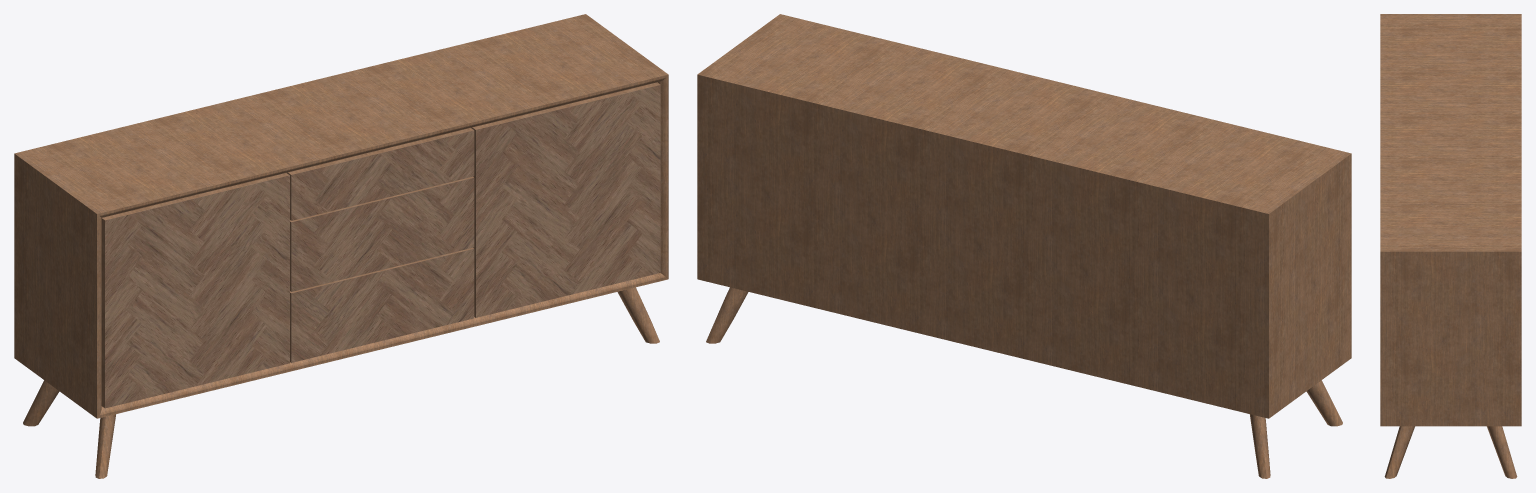
Rendered from Meuble_ID_1.glb.
The picture shows the model from 3 angles, left to right: view 1: azimuth 30°, elevation 25°; view 2: azimuth 150°, elevation 25°; view 3: azimuth 270°, elevation 25°; orthographic projection. The views are drawn at different scales.
Parts seen in each view (by area): view 1: Extrusion.001, Blend, Extrusion; view 2: Blend; view 3: Blend.
Boxes of the visible parts, <box> form: Extrusion.001: <box>105,85,660,408</box>; Blend: <box>14,14,668,478</box>; Extrusion: <box>101,82,660,407</box>; Blend: <box>697,14,1351,478</box>; Blend: <box>1380,14,1521,478</box>.
Bounding box in the file's own units: 1.64 × 0.7372 × 0.412.
Materials: 3 (3 with a texture image).
